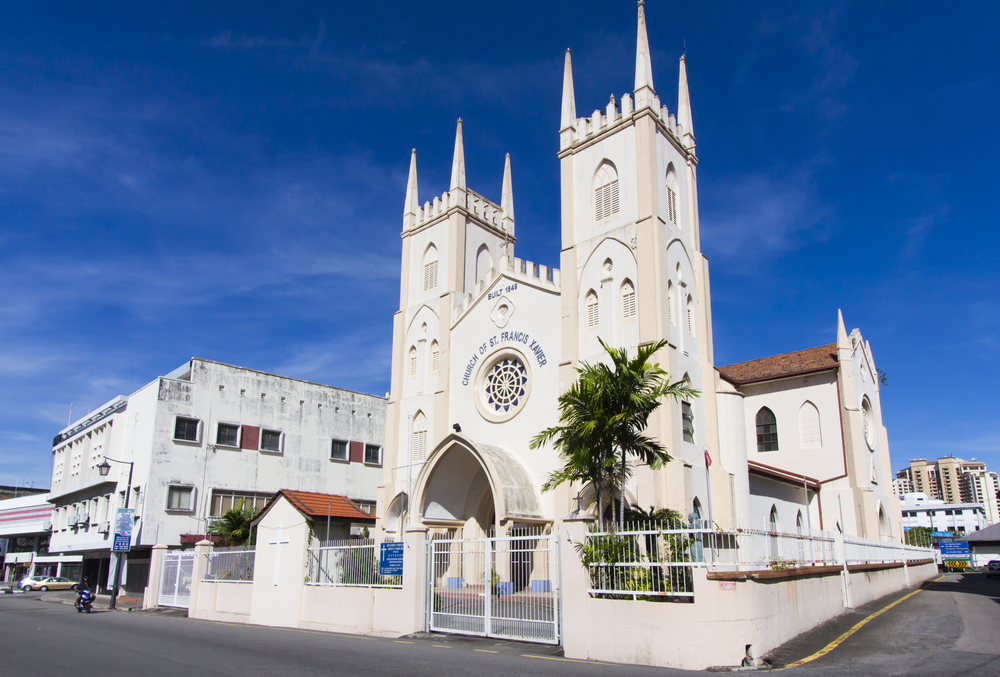Church: (352, 40, 701, 556)
